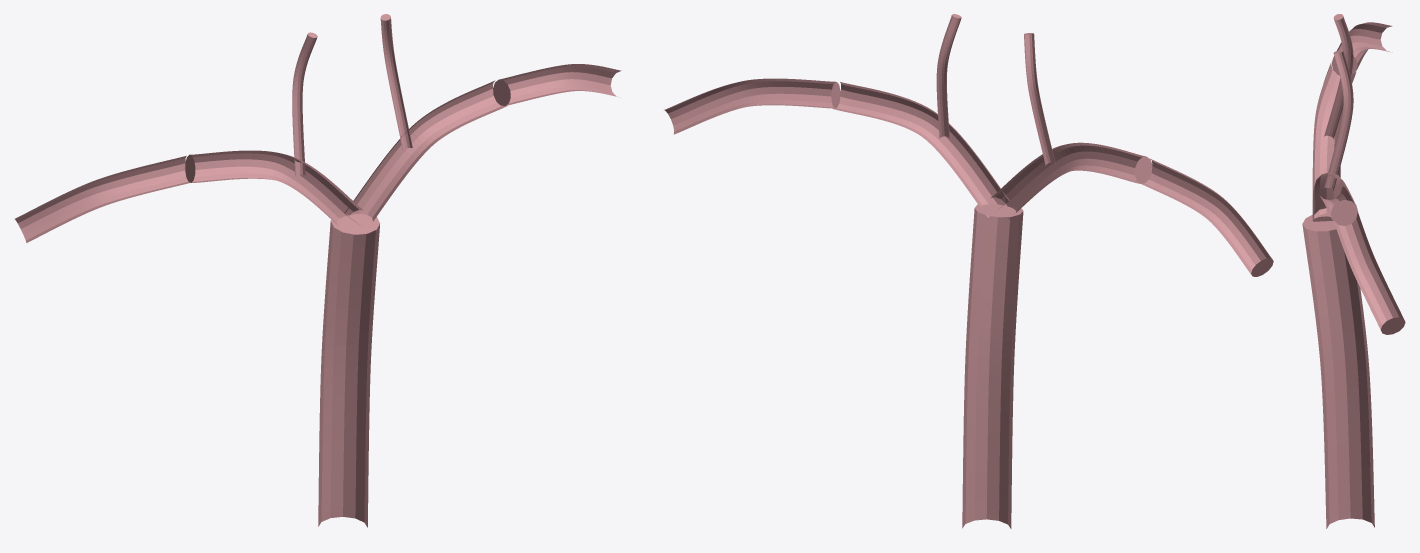
File: basilar_cranial.glb
3 views of the same model, side by side, from view 1: azimuth 30°, elevation 25°; view 2: azimuth 150°, elevation 25°; view 3: azimuth 270°, elevation 25° (orthographic). The views are drawn at different scales.
Parts seen in each view (by area): view 1: Basilar distal, P1 D — fusão cranial simétrica, P1 E — fusão cranial simétrica, ACP P2 esquerda, ACP P2 direita, Talâmoperfurante — exemplo, Talâmoperfurante contralateral; view 2: Basilar distal, P1 D — fusão cranial simétrica, ACP P2 direita, P1 E — fusão cranial simétrica, ACP P2 esquerda, Talâmoperfurante — exemplo, Talâmoperfurante contralateral; view 3: Basilar distal, ACP P2 direita, P1 E — fusão cranial simétrica, P1 D — fusão cranial simétrica, Talâmoperfurante contralateral, ACP P2 esquerda, Talâmoperfurante — exemplo.
Boxes of the visible parts, x1=… form: Basilar distal: x1=318, y1=213, x2=379, y2=527; P1 D — fusão cranial simétrica: x1=344, y1=80, x2=507, y2=226; P1 E — fusão cranial simétrica: x1=185, y1=150, x2=363, y2=225; ACP P2 esquerda: x1=15, y1=156, x2=193, y2=242; ACP P2 direita: x1=493, y1=64, x2=621, y2=105; Talâmoperfurante — exemplo: x1=292, y1=32, x2=317, y2=175; Talâmoperfurante contralateral: x1=380, y1=14, x2=412, y2=149; Basilar distal: x1=962, y1=204, x2=1023, y2=528; P1 D — fusão cranial simétrica: x1=832, y1=82, x2=1009, y2=217; ACP P2 direita: x1=664, y1=78, x2=840, y2=134; P1 E — fusão cranial simétrica: x1=991, y1=142, x2=1152, y2=219; ACP P2 esquerda: x1=1141, y1=158, x2=1273, y2=276; Talâmoperfurante — exemplo: x1=1024, y1=33, x2=1055, y2=165; Talâmoperfurante contralateral: x1=936, y1=14, x2=961, y2=138; Basilar distal: x1=1302, y1=213, x2=1374, y2=528; ACP P2 direita: x1=1334, y1=210, x2=1405, y2=334; P1 E — fusão cranial simétrica: x1=1312, y1=63, x2=1356, y2=221; P1 D — fusão cranial simétrica: x1=1312, y1=172, x2=1357, y2=225; Talâmoperfurante contralateral: x1=1324, y1=50, x2=1353, y2=190; ACP P2 esquerda: x1=1331, y1=22, x2=1392, y2=75; Talâmoperfurante — exemplo: x1=1324, y1=14, x2=1353, y2=138.
Size of the model in its own units: 5.72 by 4.52 by 0.8514.
